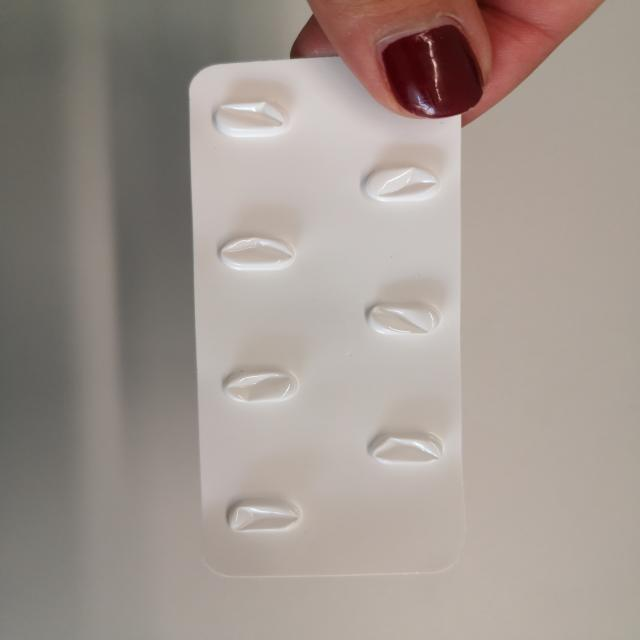Empty: (342, 289, 454, 350), (357, 418, 454, 477), (215, 488, 312, 546), (198, 90, 301, 144), (210, 356, 308, 412), (344, 160, 454, 207), (213, 228, 310, 278)
